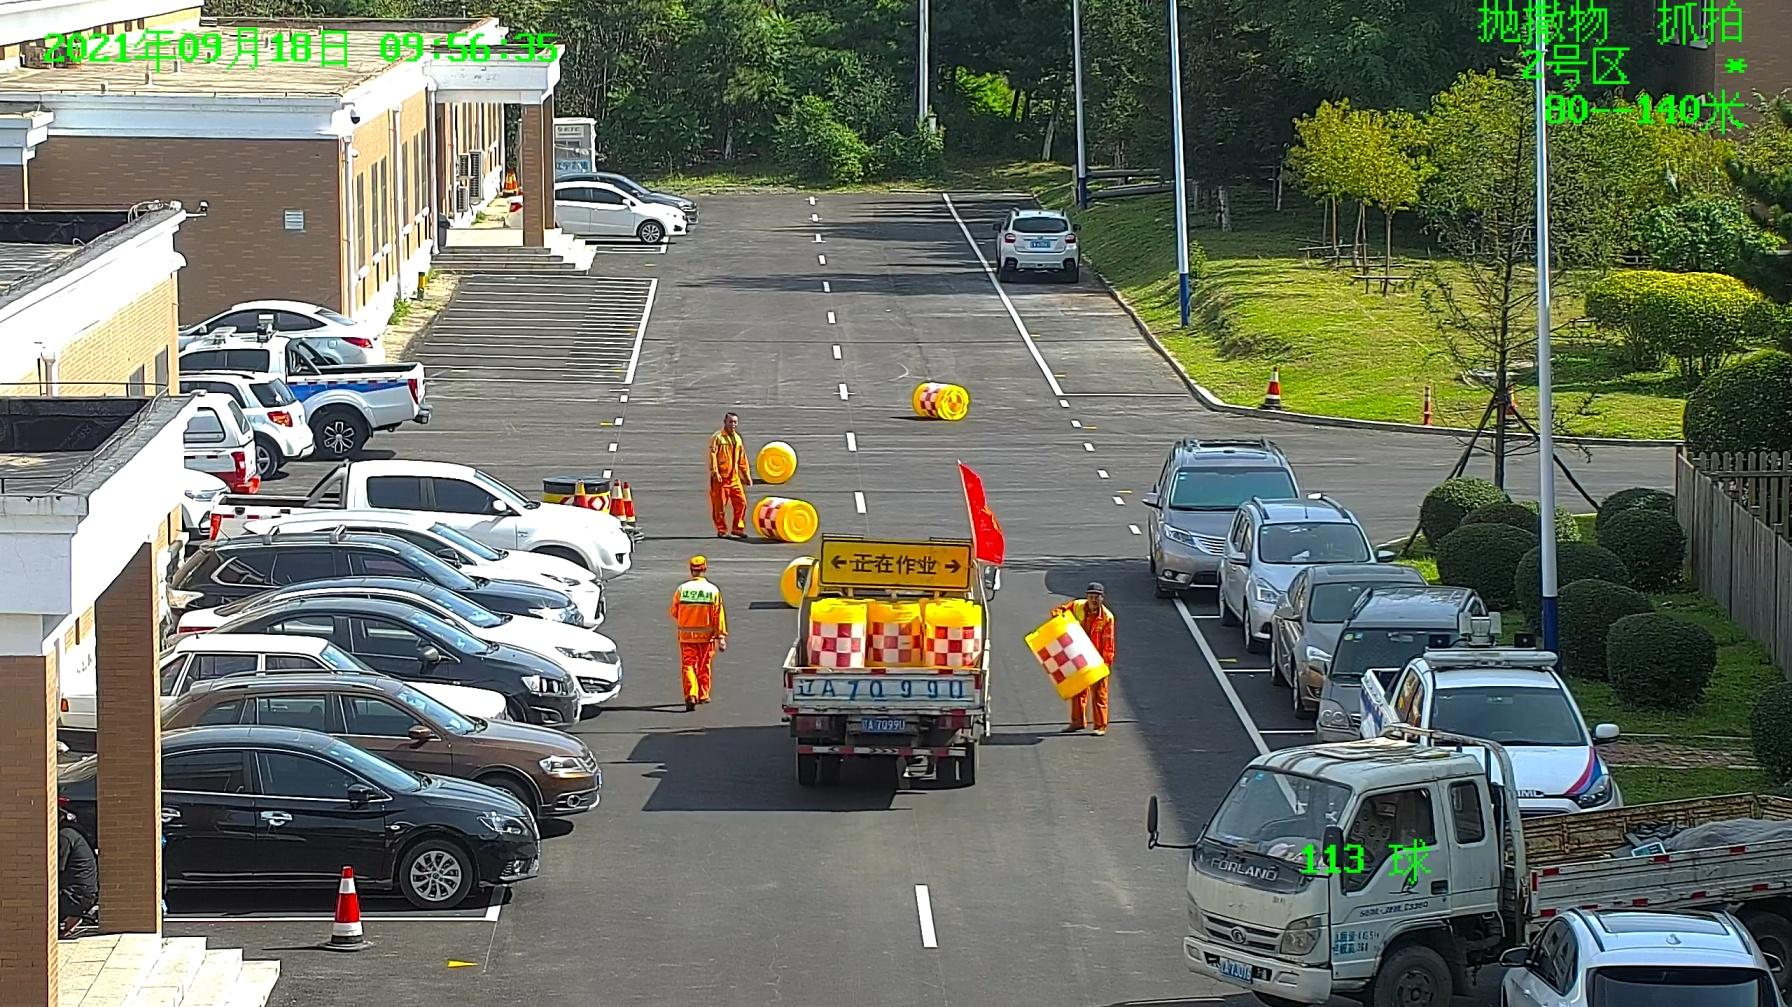cone_barrel: (1023, 608, 1105, 694), (807, 602, 866, 670), (921, 601, 978, 670), (869, 604, 921, 670), (753, 497, 814, 544), (912, 382, 967, 421), (754, 439, 796, 481)
